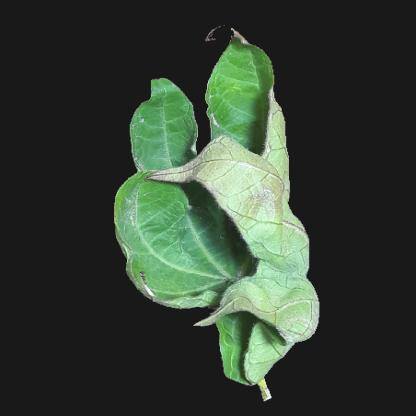curl_stage2: (158, 156, 288, 279), (229, 278, 298, 350)
